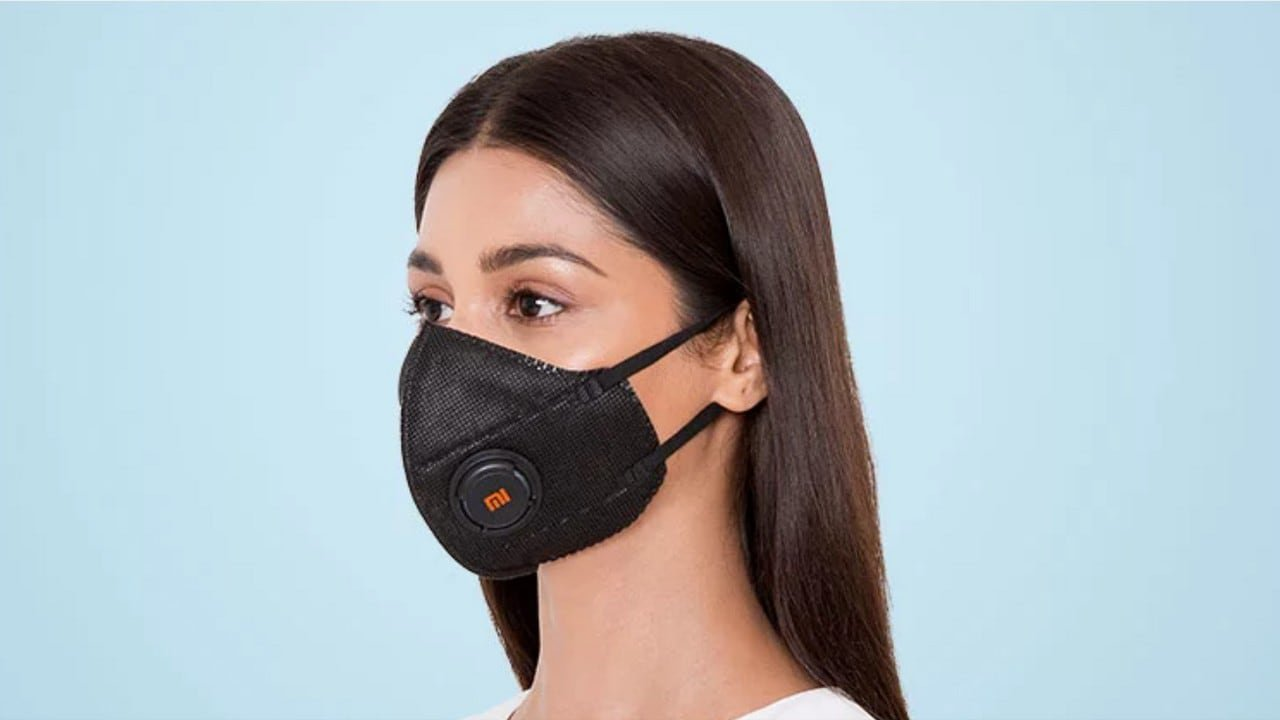mask: (375, 41, 858, 547)
